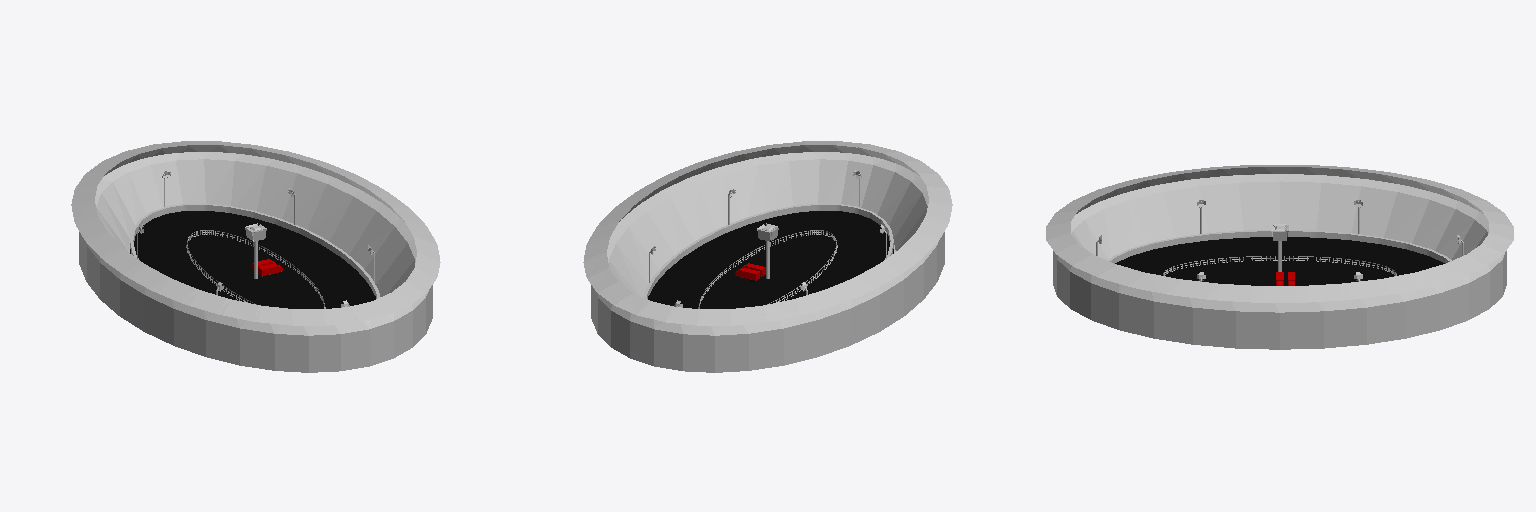
Rendered from Stade_plat.obj.
3 views of the same model, side by side, from view 1: azimuth 30°, elevation 25°; view 2: azimuth 150°, elevation 25°; view 3: azimuth 270°, elevation 25° (orthographic).
Parts seen in each view (by area): view 1: Stade, Piste, Barriere; view 2: Stade, Piste, Barriere; view 3: Stade, Piste.
Boxes of the visible parts, box(x1,y1,x2,y2) form: Stade: box(71, 141, 440, 372); Piste: box(130, 211, 375, 308); Barriere: box(186, 230, 325, 308); Stade: box(583, 141, 952, 372); Piste: box(648, 211, 893, 308); Barriere: box(698, 230, 837, 308); Stade: box(1046, 165, 1513, 349); Piste: box(1115, 237, 1444, 285).
Bounding box in the file's own units: 22.35 × 4.46 × 31.9.